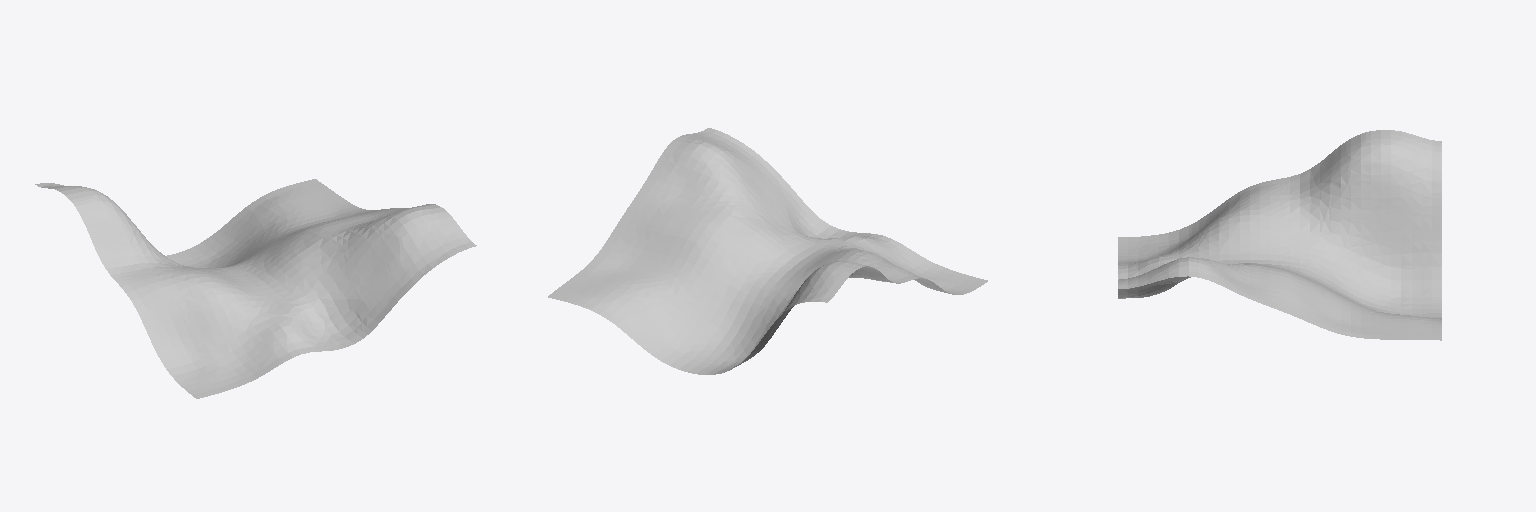
The model's file is Mesh4_Poisson.obj.
3 renders of one model, left to right at view 1: azimuth 30°, elevation 25°; view 2: azimuth 150°, elevation 25°; view 3: azimuth 270°, elevation 25°, orthographic.
Bounding box in the file's own units: 2.77 × 1.09 × 2.77.